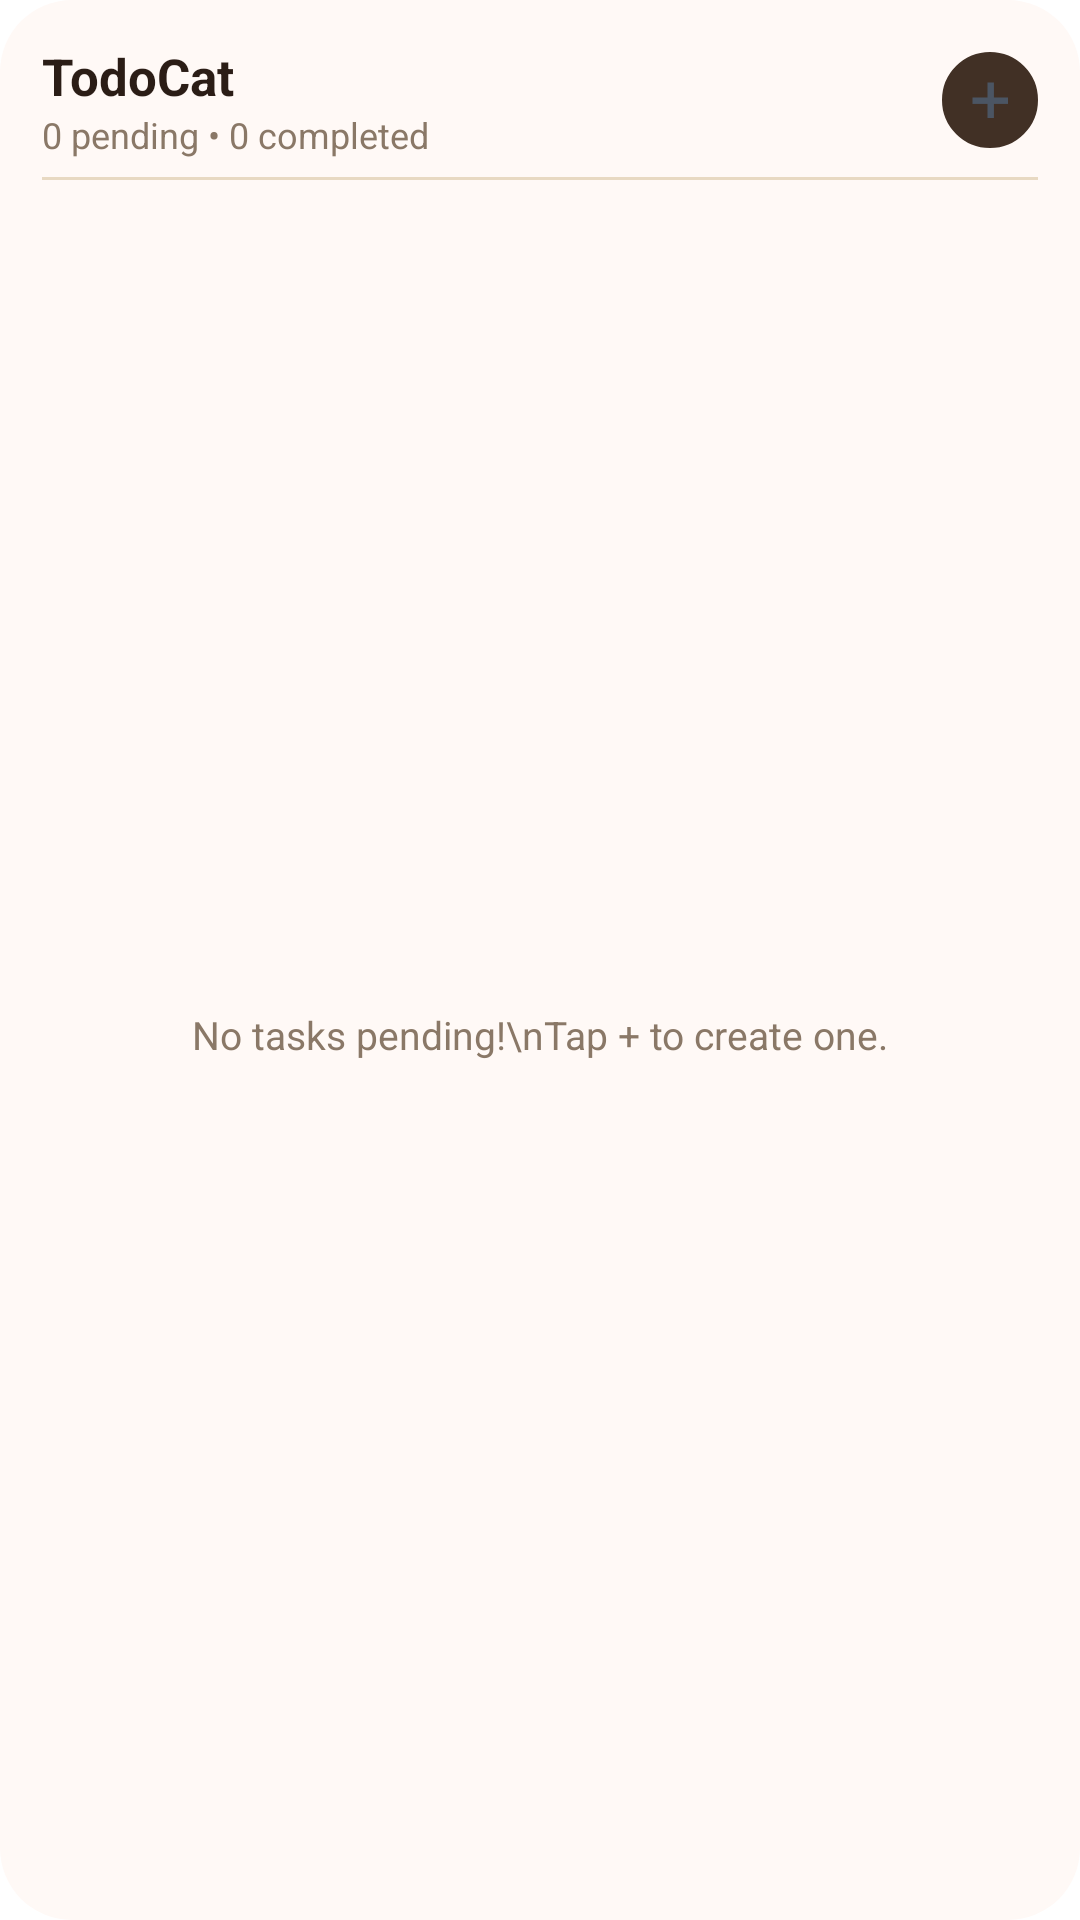

Icon click points for this 1080 x 1920 phone screenshot, format (x,y):
Add Task: (990,100)
